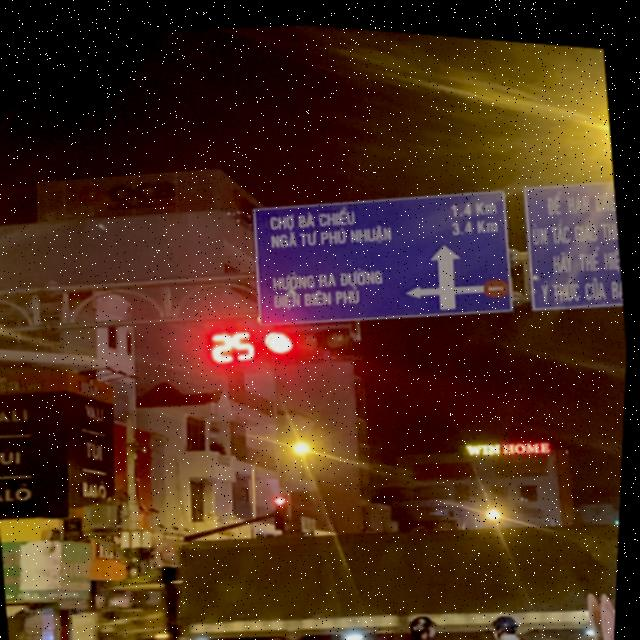Red: (254, 307, 367, 366)
